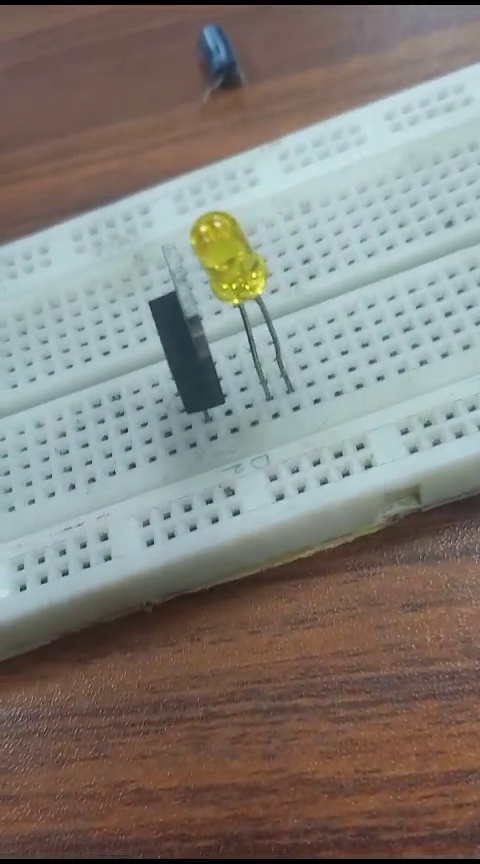LED: (183, 209, 287, 317)
voltage regulator: (130, 244, 218, 417)
